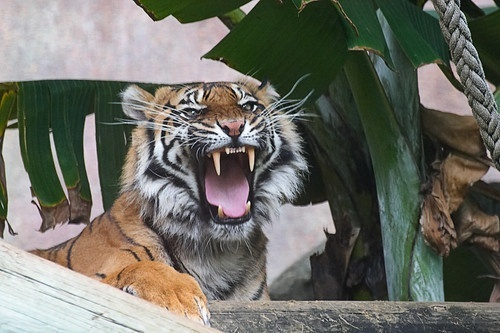tigre: (34, 74, 311, 329)
